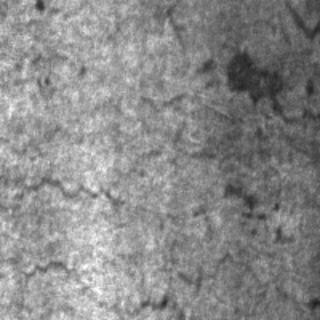crazing: (0, 173, 208, 307), (137, 94, 226, 158)
patches: (223, 46, 283, 102)
